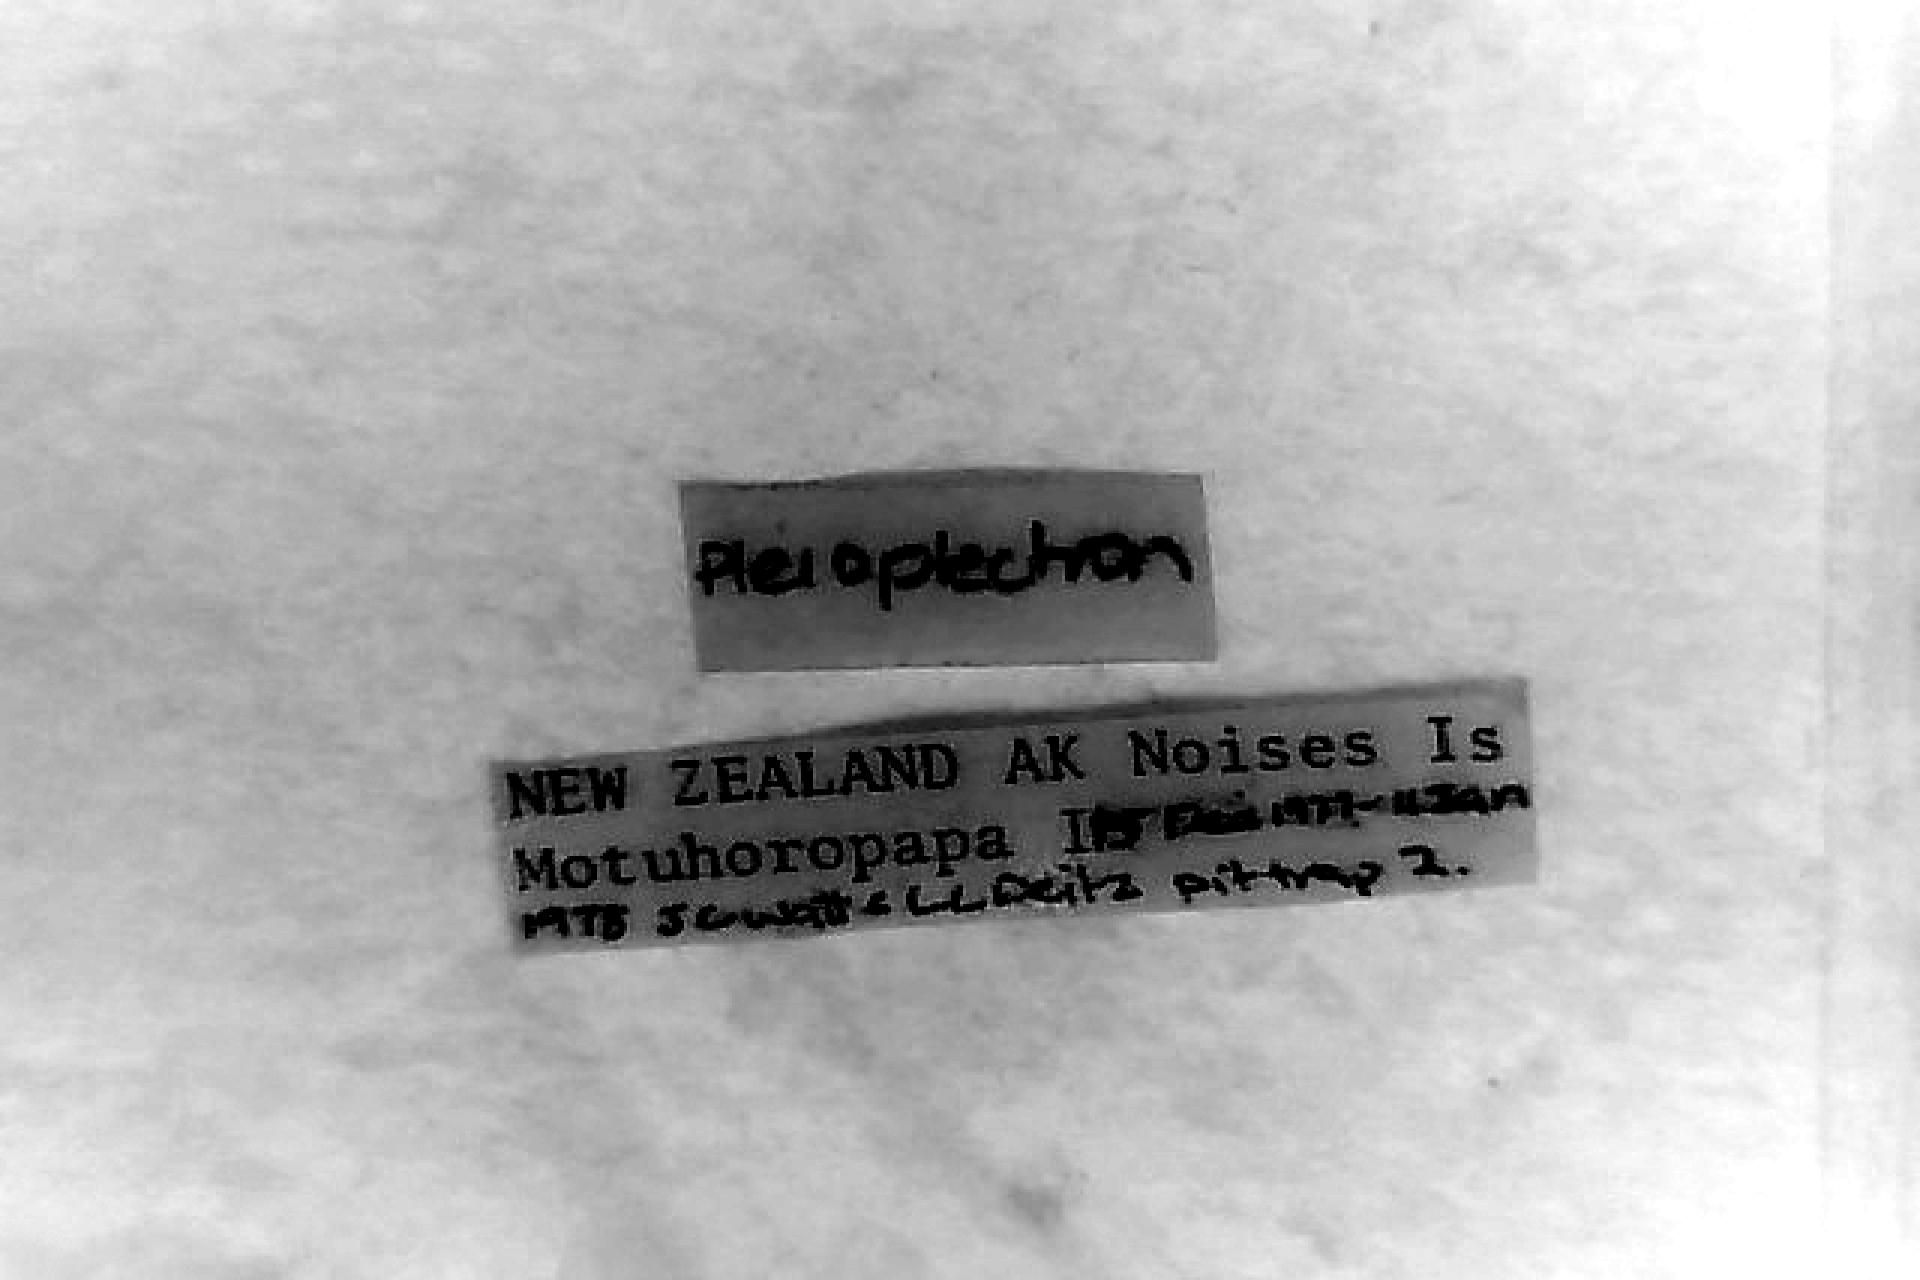hand_label: (683, 470, 1210, 669)
mixed_label: (494, 680, 1534, 950)
